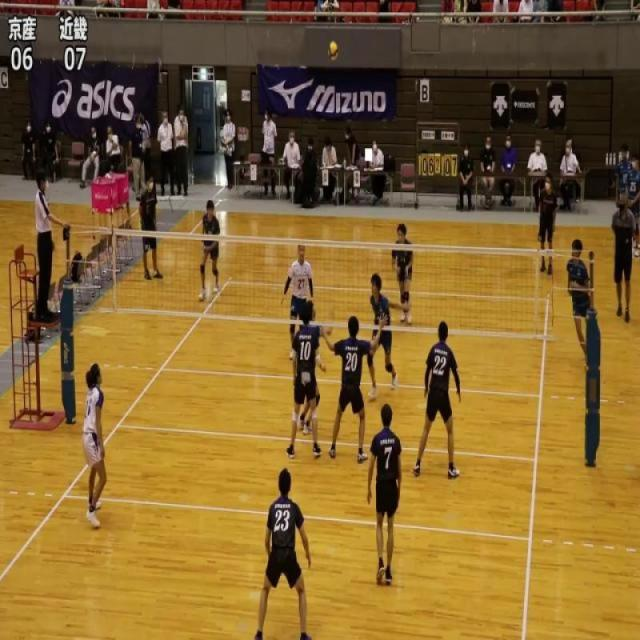volleyball: (328, 39, 338, 62)
